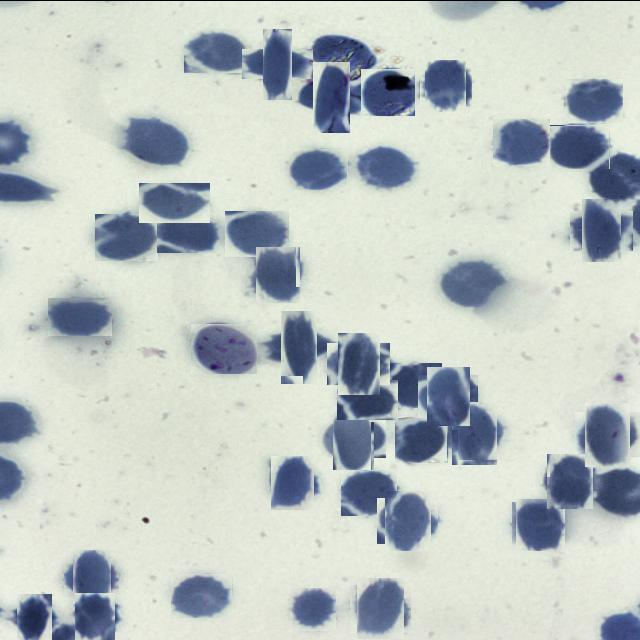red blood cell: (439, 259, 506, 308), (122, 118, 192, 164), (353, 580, 408, 636), (310, 33, 375, 80), (580, 406, 635, 461), (447, 406, 502, 460), (95, 213, 158, 260), (225, 210, 289, 256), (380, 493, 434, 547), (272, 319, 326, 373), (304, 70, 358, 124), (139, 182, 210, 222), (327, 410, 380, 463), (184, 29, 249, 72), (171, 572, 233, 617), (576, 204, 628, 256), (332, 337, 384, 389), (493, 118, 550, 165), (544, 455, 596, 506), (422, 370, 474, 421), (550, 124, 610, 168), (361, 68, 416, 116), (252, 248, 302, 300), (564, 78, 622, 122), (252, 38, 303, 88), (48, 296, 113, 335), (356, 146, 416, 188), (341, 470, 397, 515), (157, 212, 220, 252), (514, 499, 564, 549), (289, 147, 348, 189), (387, 362, 442, 407), (337, 379, 398, 419), (395, 416, 448, 462), (269, 457, 317, 507), (422, 62, 470, 108), (68, 553, 114, 599), (73, 594, 118, 639), (290, 587, 336, 630), (14, 596, 56, 640)
ring: (191, 323, 257, 373)
